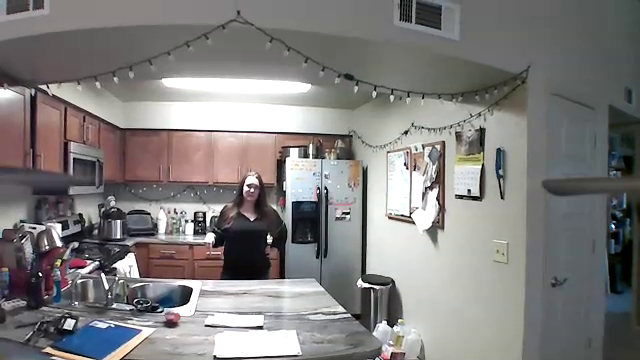down: (199, 228, 218, 257)
